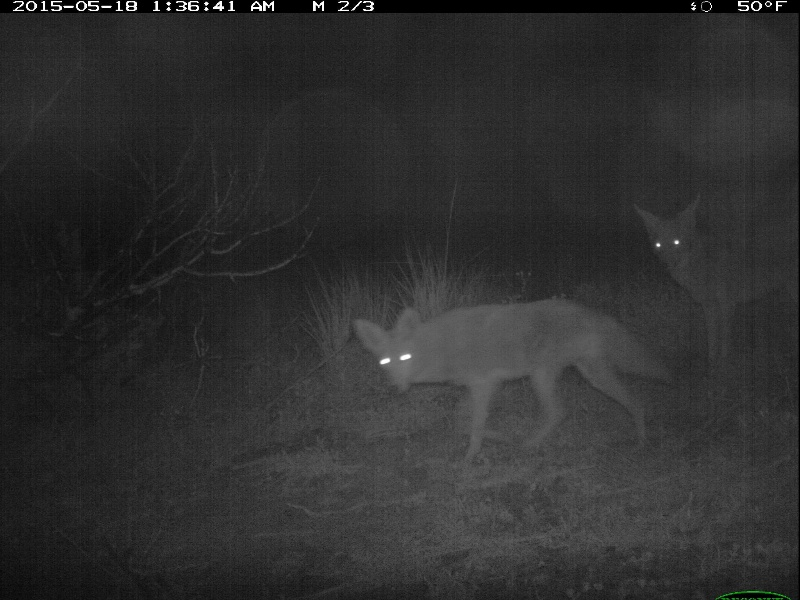coyote: (347, 301, 676, 460), (631, 197, 800, 371)
